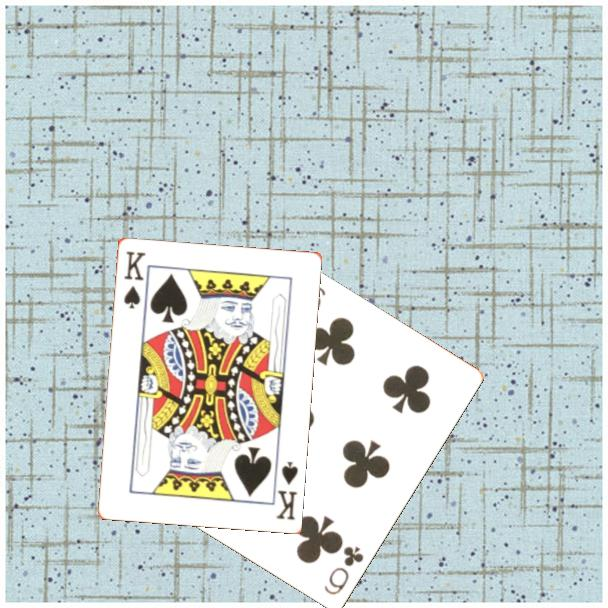c06: (320, 543, 367, 598)
s13: (120, 247, 148, 311), (272, 458, 300, 522)
